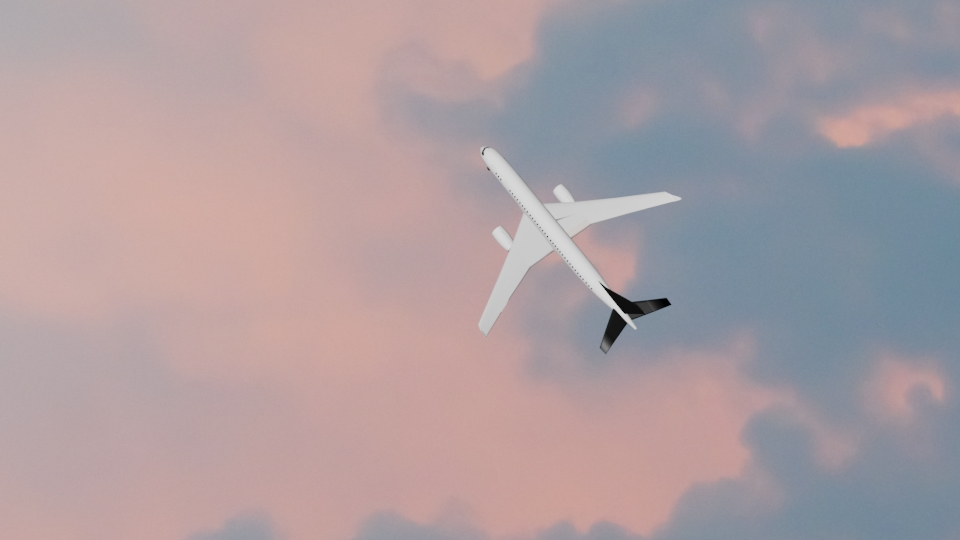plane: (478, 142, 682, 355)
